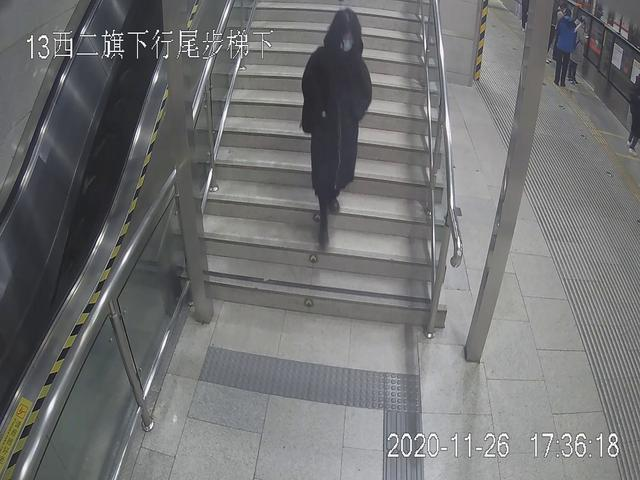person: (299, 1, 376, 253), (555, 1, 580, 95)
